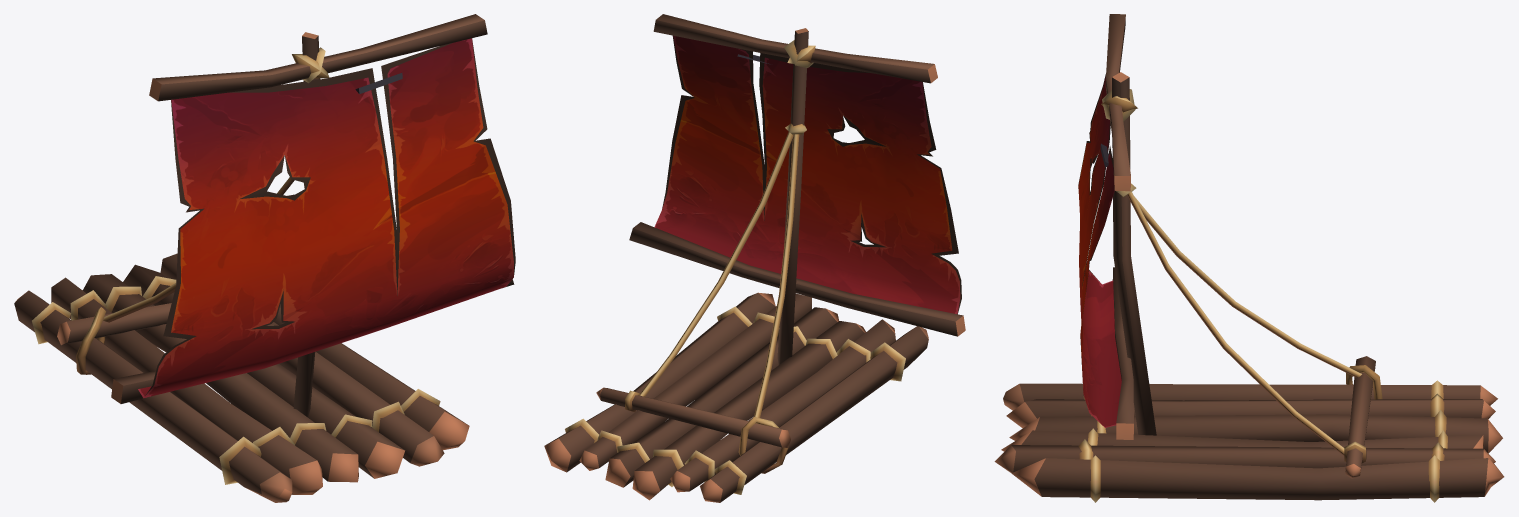
File: Boat_2B.fbx
3 views of the same model, side by side, from view 1: azimuth 30°, elevation 25°; view 2: azimuth 150°, elevation 25°; view 3: azimuth 270°, elevation 25° (orthographic). The views are drawn at different scales.
Parts seen in each view (by area): view 1: Boat_2B; view 2: Boat_2B; view 3: Boat_2B.
Boxes of the visible parts, x1,y1,x2,y2 form: Boat_2B: [14, 14, 515, 502]; Boat_2B: [544, 14, 965, 502]; Boat_2B: [994, 14, 1504, 502].
Bounding box in the file's own units: 3.35 × 3.42 × 4.07.
